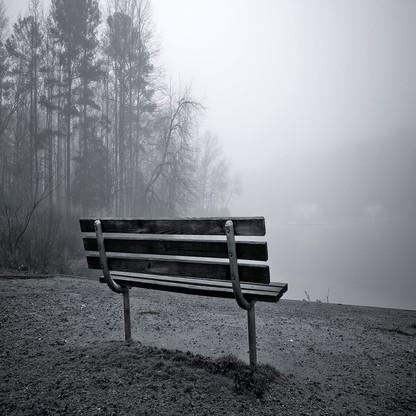obstacle: (66, 206, 294, 384)
